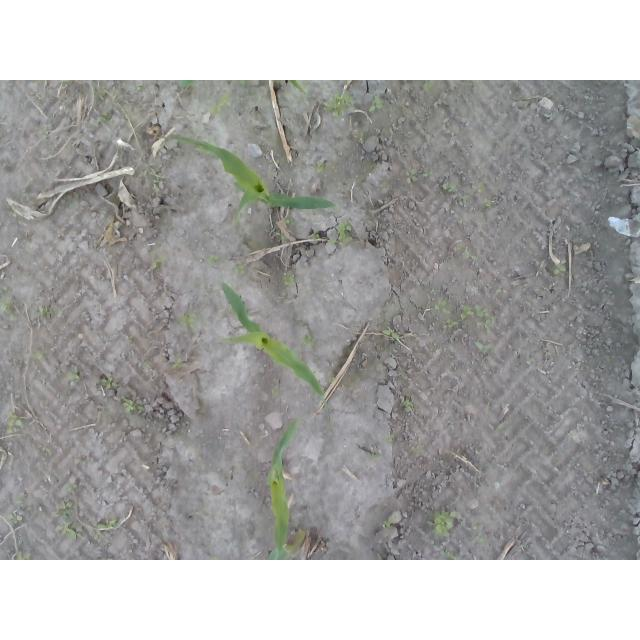Maize: (167, 131, 335, 225), (219, 279, 327, 403), (267, 420, 299, 560), (288, 80, 310, 97)
Weeds: (322, 88, 358, 121), (208, 90, 235, 119), (433, 509, 460, 535), (59, 521, 85, 544), (0, 412, 24, 435), (175, 312, 202, 331), (462, 303, 490, 321), (176, 80, 201, 97), (338, 219, 353, 246), (0, 296, 16, 320), (120, 397, 144, 412), (96, 375, 120, 389), (57, 500, 73, 521), (367, 95, 385, 113), (32, 305, 54, 319), (15, 496, 33, 513), (352, 128, 369, 145), (95, 516, 117, 529), (312, 161, 330, 176), (432, 299, 451, 313), (484, 316, 497, 336), (404, 168, 420, 184), (473, 340, 492, 353), (298, 334, 317, 347), (441, 319, 463, 330), (152, 256, 167, 272), (553, 257, 568, 273), (96, 113, 113, 127), (432, 543, 449, 557), (419, 80, 433, 97), (384, 327, 401, 341), (65, 195, 80, 210), (233, 261, 249, 274), (6, 512, 19, 528), (441, 182, 457, 194), (32, 351, 49, 362), (282, 272, 294, 287), (14, 550, 32, 560), (93, 89, 105, 104), (463, 251, 479, 262), (68, 368, 81, 380), (403, 400, 415, 413), (368, 451, 385, 460), (39, 127, 49, 142), (207, 256, 219, 268), (383, 515, 394, 528), (63, 483, 77, 493), (420, 167, 433, 177), (171, 359, 183, 369), (414, 447, 426, 457), (239, 80, 249, 92), (63, 446, 73, 458), (472, 183, 484, 193), (151, 174, 161, 185), (385, 431, 396, 441), (39, 443, 50, 453), (271, 385, 280, 397), (375, 183, 385, 193), (484, 198, 493, 208), (285, 216, 296, 224), (93, 532, 103, 540), (136, 84, 145, 92), (479, 536, 487, 544), (311, 233, 320, 240), (328, 239, 337, 246), (207, 556, 218, 561), (127, 337, 134, 344), (275, 235, 282, 241)
